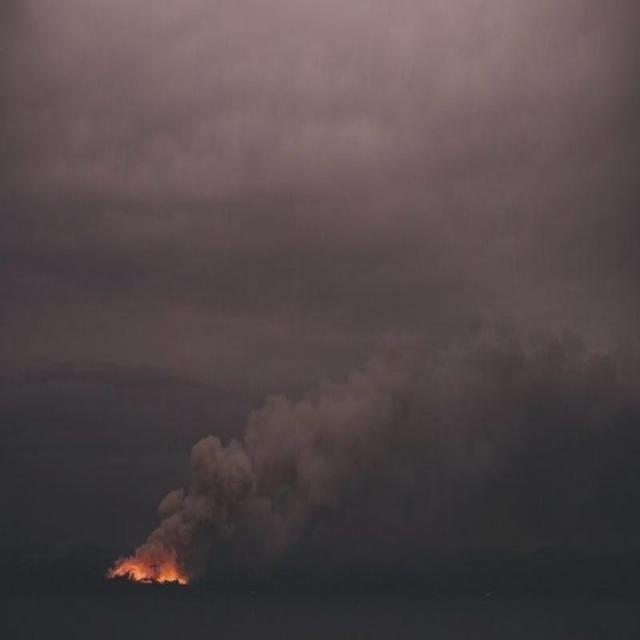Fire: (108, 558, 190, 588)
